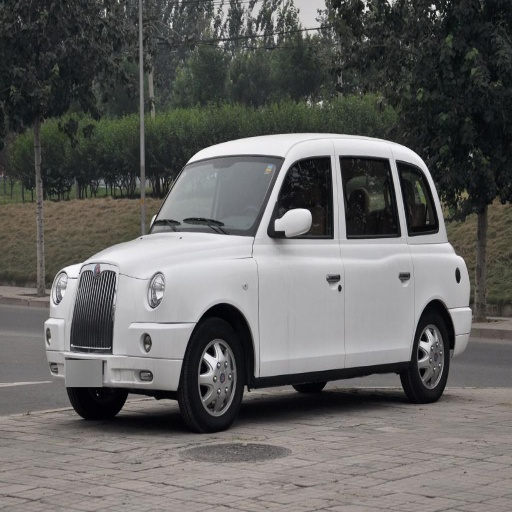front_bumper: (57, 265, 158, 360)
front_glass: (152, 156, 281, 233)
front_left_door: (258, 148, 344, 371)
